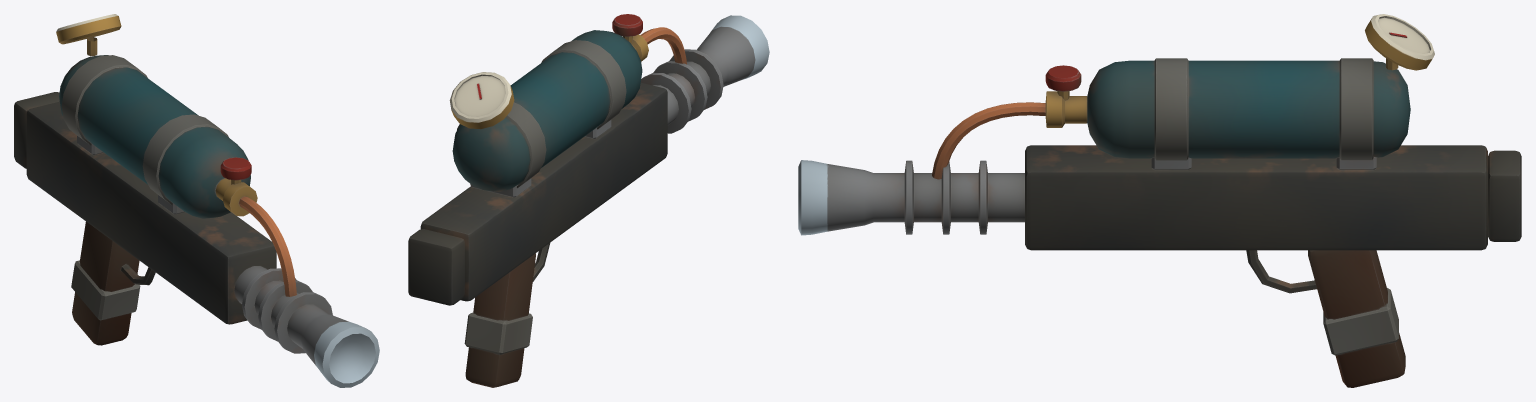
The model's file is SM_IceGun.fbx.
3 views of the same model, side by side, from view 1: azimuth 30°, elevation 25°; view 2: azimuth 150°, elevation 25°; view 3: azimuth 270°, elevation 25° (orthographic). The views are drawn at different scales.
Visible parts, largest first — view 1: IceGun; view 2: IceGun; view 3: IceGun.
Boxes of the visible parts, x1,y1,x2,y2 form: IceGun: [14, 14, 379, 387]; IceGun: [408, 14, 769, 387]; IceGun: [798, 14, 1521, 387].
Size of the model in its own units: 0.0672 by 0.259 by 0.469.
